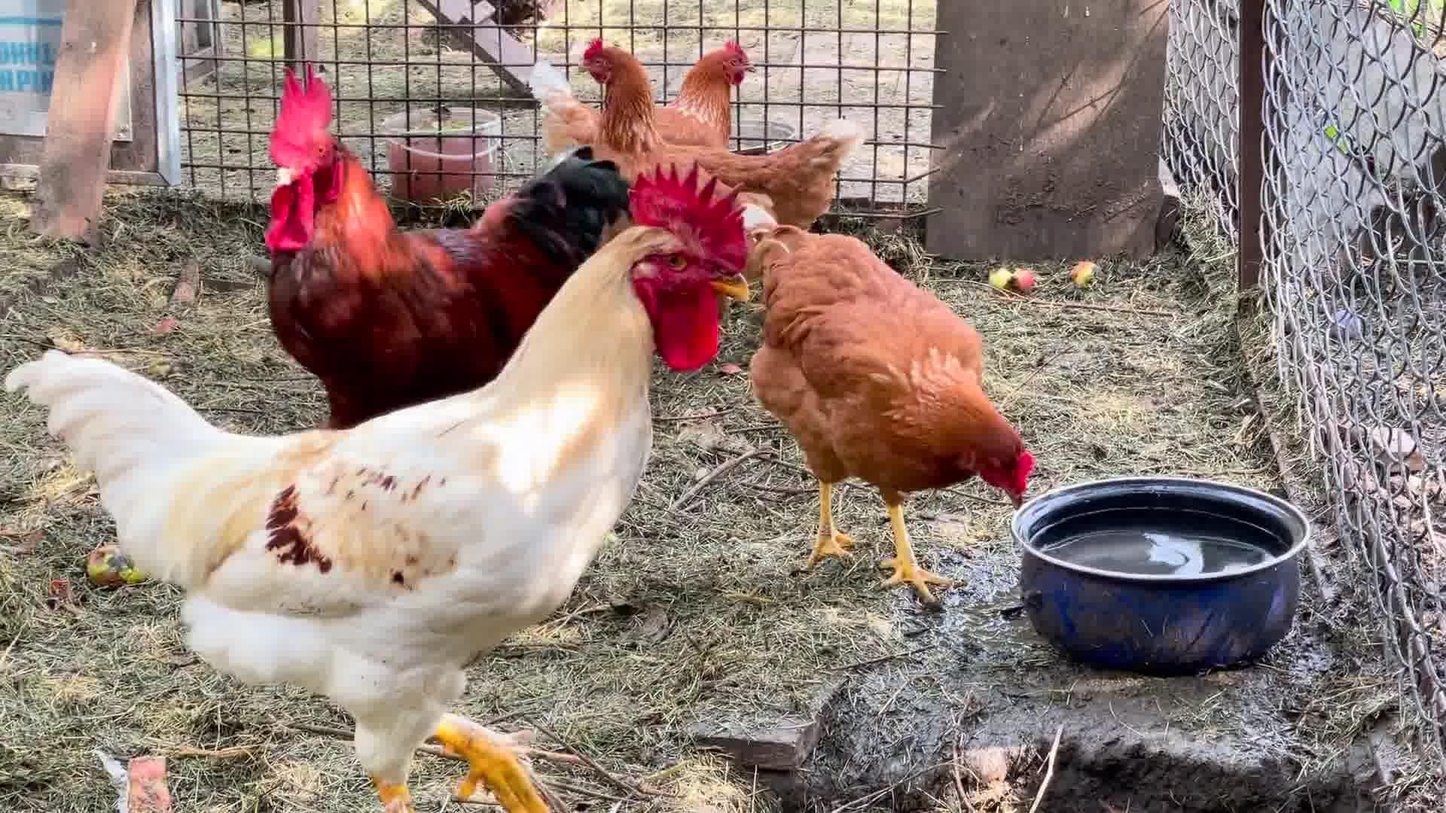Normal: (19, 158, 753, 813), (245, 62, 637, 371), (752, 219, 1028, 615), (592, 53, 869, 226), (531, 44, 748, 166)
